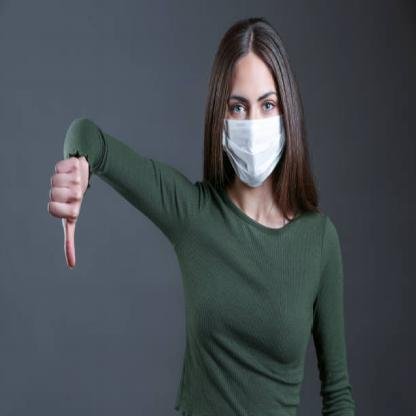thumb_down: (46, 152, 89, 272)
